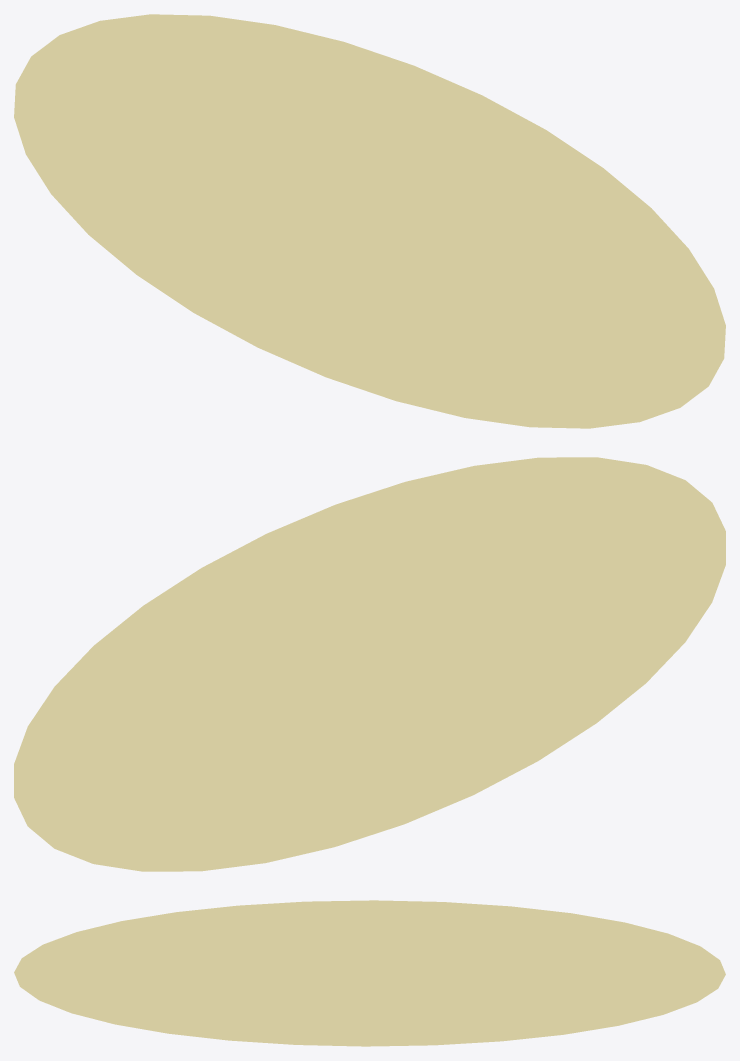
The model's file is sol.fbx.
The picture shows the model from 3 angles, top to bottom: view 1: azimuth 30°, elevation 25°; view 2: azimuth 150°, elevation 25°; view 3: azimuth 270°, elevation 25°; orthographic projection. The views are drawn at different scales.
Parts seen in each view (by area): view 1: Cylinder; view 2: Cylinder; view 3: Cylinder.
Part boxes in pixels (x1,y1,x2,y2): Cylinder: (14, 14, 725, 428); Cylinder: (14, 457, 725, 871); Cylinder: (14, 900, 725, 1046).
Size of the model in its own units: 1.34 by 1.18e-07 by 2.76.
1 material, 1 textured.
